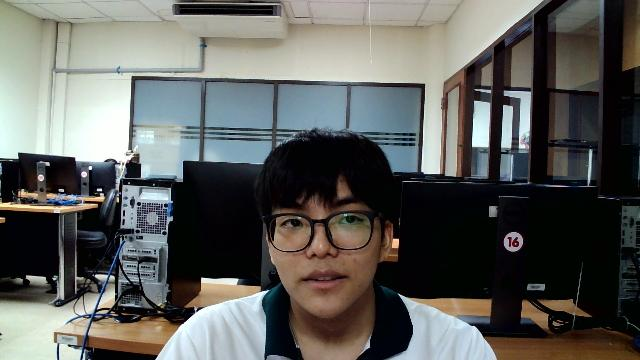fokus: (271, 186, 381, 320)
